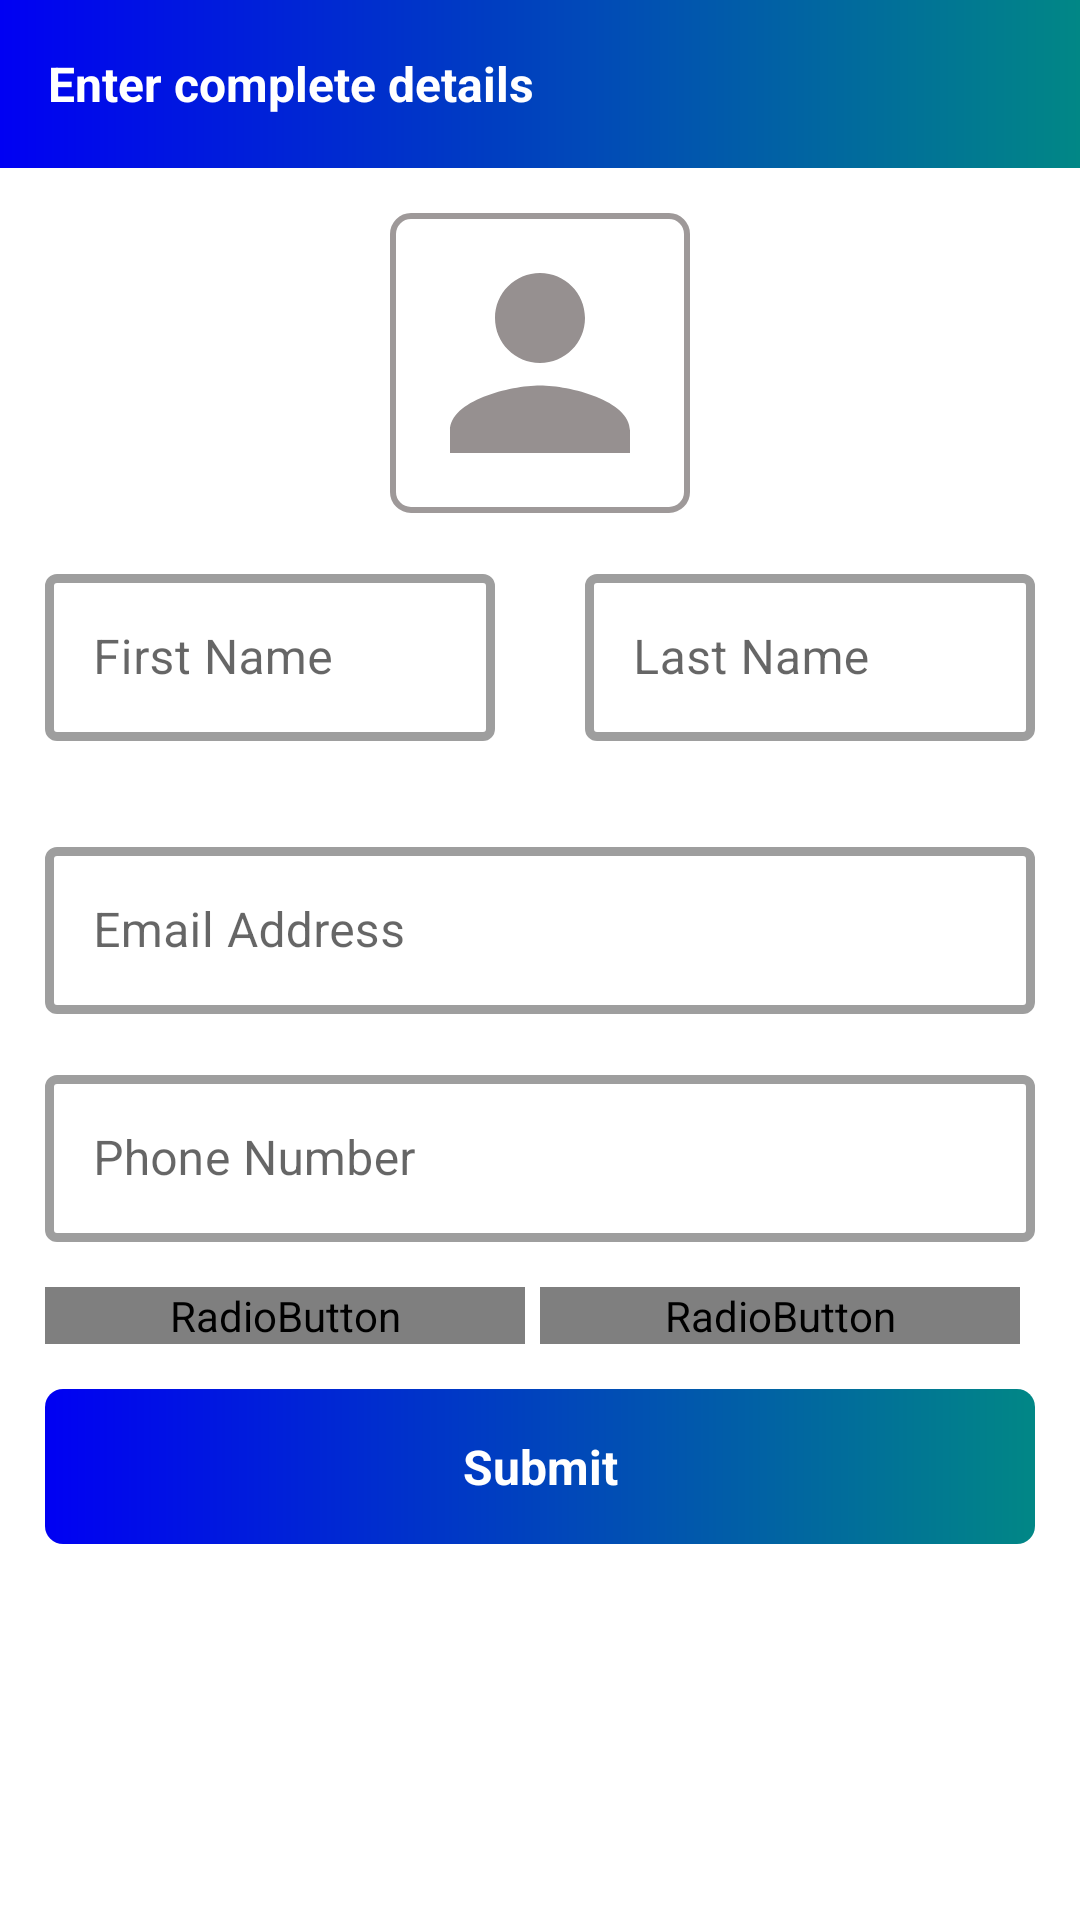

Icons on this 1080px x 1920px Android screen, each with its box as (x1, y1, x2, y2):
User Profile Image: (450, 273, 630, 453)
